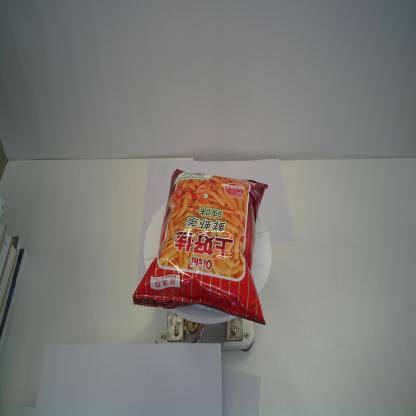Puffed Food: (131, 168, 266, 325)
